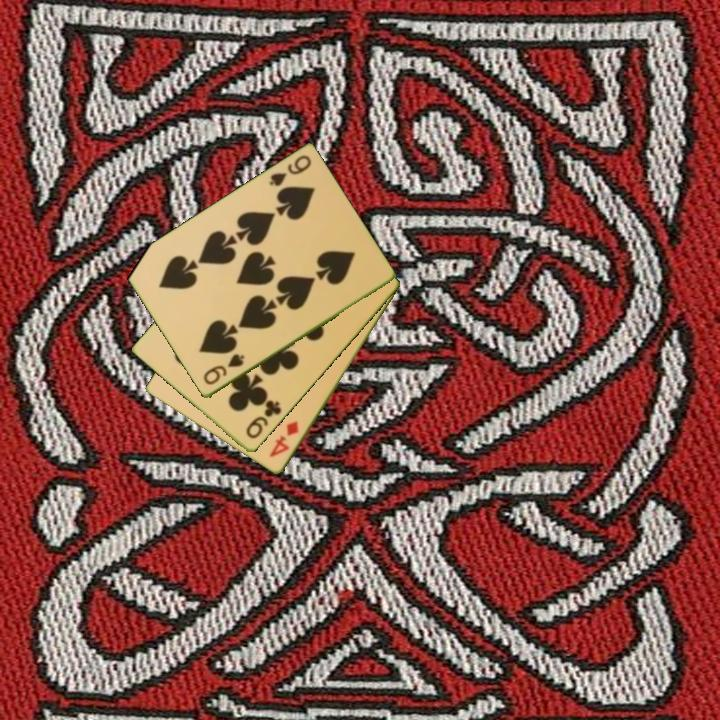4d: (266, 418, 302, 461)
9c: (242, 397, 285, 442)
9s: (200, 350, 248, 388), (266, 152, 314, 190)
